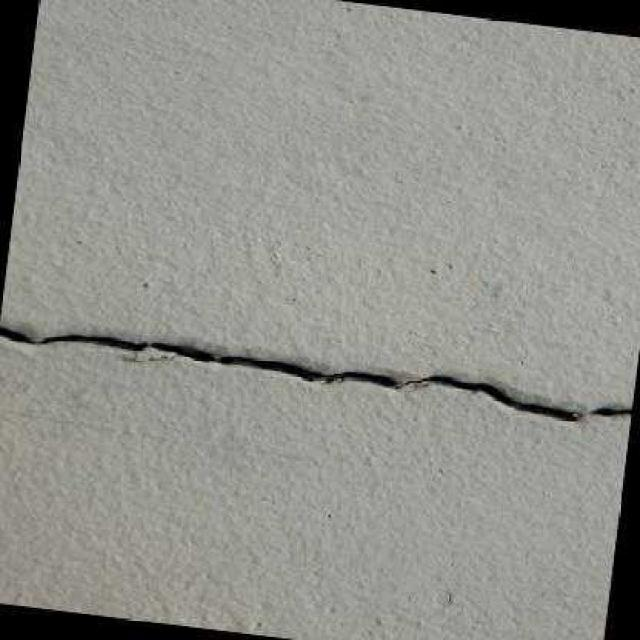D00: (0, 321, 632, 427)
